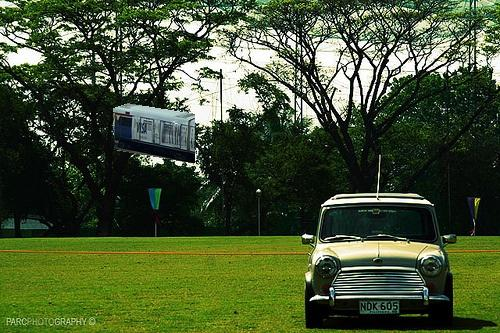tampered: (114, 104, 195, 163)
